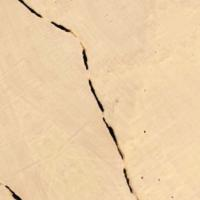crack: (7, 0, 137, 199)
